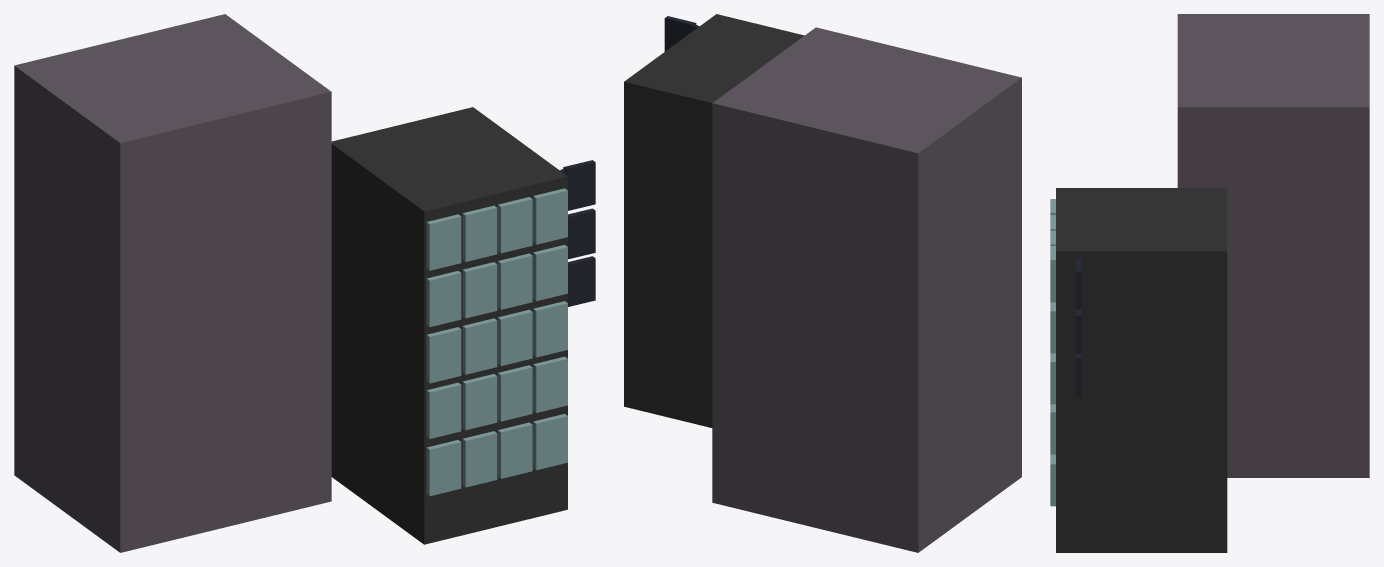
File: skyscrapersTESTER.fbx
3 views of the same model, side by side, from view 1: azimuth 30°, elevation 25°; view 2: azimuth 150°, elevation 25°; view 3: azimuth 270°, elevation 25° (orthographic). The views are drawn at different scales.
Parts seen in each view (by area): view 1: PurpleBuildingWHOLE, GreyBuildingWHOLE, GreyBuildingWindowMiddleLEFT, GreyBuildingWindowTopTOPLEFTLEFT1, GreyBuildingWindowTopTOPLEFT, GreyBuildingWindowBottomLEFT, GreyBuildingWindowTopLEFTLEFT, GreyBuildingWindowTopLEFT, GreyBuildingWindowMiddleLEFTLEFT, GreyBuildingWindwBottomBOTTOMLEFTLEFT, GreyBuildingWindowBottomBOTTOMLEFT, GreyBuildingWindowBottomLEFTLEFT (+13 smaller); view 2: PurpleBuildingWHOLE, GreyBuildingWHOLE, GreyBuildingSignTOP; view 3: PurpleBuildingWHOLE, GreyBuildingWHOLE.
Part boxes in pixels (x1,y1,x2,y2): PurpleBuildingWHOLE: (14,14,331,552); GreyBuildingWHOLE: (331,107,567,544); GreyBuildingWindowMiddleLEFT: (462,318,497,374); GreyBuildingWindowTopTOPLEFTLEFT1: (426,214,461,270); GreyBuildingWindowTopTOPLEFT: (462,205,497,261); GreyBuildingWindowBottomLEFT: (462,374,497,430); GreyBuildingWindowTopLEFTLEFT: (426,271,461,326); GreyBuildingWindowTopLEFT: (462,262,497,318); GreyBuildingWindowMiddleLEFTLEFT: (426,327,461,383); GreyBuildingWindwBottomBOTTOMLEFTLEFT: (426,440,461,496); GreyBuildingWindowBottomBOTTOMLEFT: (462,431,497,487); GreyBuildingWindowBottomLEFTLEFT: (426,382,461,438); PurpleBuildingWHOLE: (712,27,1021,552); GreyBuildingWHOLE: (624,14,804,427); GreyBuildingSignTOP: (664,16,699,51); PurpleBuildingWHOLE: (1177,14,1369,477); GreyBuildingWHOLE: (1056,188,1227,552).
Size of the model in its own units: 41.71 by 38.99 by 30.42.
